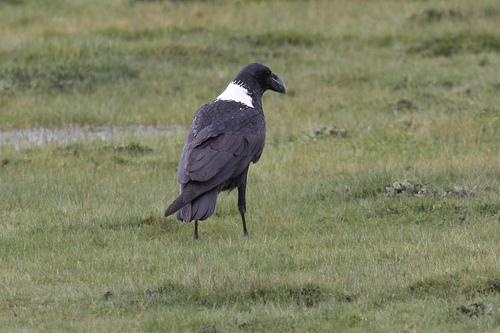bird: (158, 63, 289, 245)
